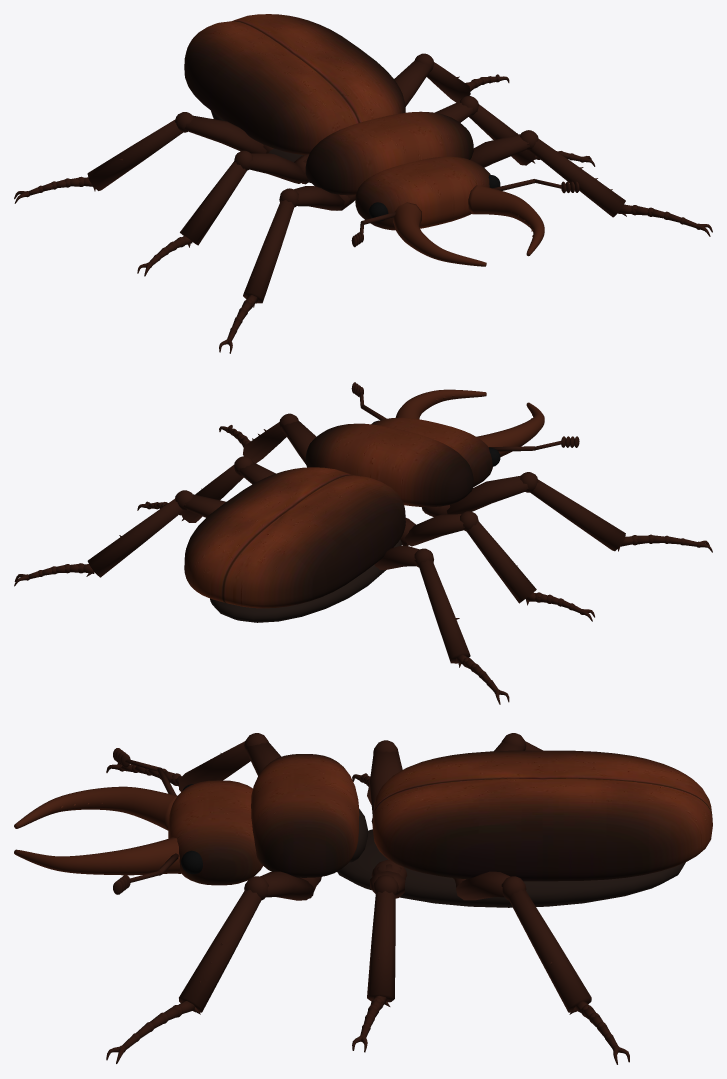
The model's file is bug_nokogiri.glb.
The picture shows the model from 3 angles, top to bottom: view 1: azimuth 30°, elevation 25°; view 2: azimuth 150°, elevation 25°; view 3: azimuth 270°, elevation 25°; orthographic projection. The views are drawn at different scales.
Visible parts, largest first — view 1: shell, pronotum, head_shell, leg_2_R_mesh, leg_0_L_mesh, leg_1_R_mesh, leg_0_R_mesh, leg_2_L_mesh, jaw_L_mesh, leg_1_L_mesh, jaw_R_mesh; view 2: shell, pronotum, leg_0_R_mesh, leg_1_R_mesh, leg_2_L_mesh, leg_2_R_mesh, under, head_shell, leg_0_L_mesh, leg_1_L_mesh, jaw_R_mesh, jaw_L_mesh (+1 smaller); view 3: shell, pronotum, head_shell, under, leg_0_L_mesh, leg_2_L_mesh, leg_1_L_mesh, jaw_L_mesh, jaw_R_mesh, leg_0_R_mesh, leg_1_R_mesh, ant_R_mesh (+1 smaller).
Boxes of the visible parts, box(x1,y1,x2,y2) form: shell: box(184, 14, 405, 154); pronotum: box(305, 111, 473, 195); head_shell: box(355, 156, 490, 230); leg_2_R_mesh: box(14, 112, 273, 203); leg_0_L_mesh: box(470, 130, 712, 236); leg_1_R_mesh: box(137, 150, 309, 276); leg_0_R_mesh: box(219, 186, 355, 353); leg_2_L_mesh: box(394, 53, 509, 106); jaw_L_mesh: box(468, 185, 544, 256); leg_1_L_mesh: box(435, 96, 595, 166); jaw_R_mesh: box(393, 202, 486, 266); shell: box(184, 467, 405, 608); pronotum: box(305, 423, 473, 506); leg_0_R_mesh: box(421, 472, 712, 552); leg_1_R_mesh: box(400, 511, 594, 621); leg_2_L_mesh: box(14, 490, 226, 586); leg_2_R_mesh: box(374, 546, 509, 704); under: box(210, 540, 401, 622); head_shell: box(372, 417, 492, 487); leg_0_L_mesh: box(219, 413, 316, 463); leg_1_L_mesh: box(137, 456, 275, 522); jaw_R_mesh: box(476, 402, 544, 457); jaw_L_mesh: box(395, 389, 486, 419); shell: box(372, 750, 712, 881); pronotum: box(251, 754, 359, 877); head_shell: box(168, 780, 262, 885); under: box(337, 808, 685, 907); leg_0_L_mesh: box(106, 871, 321, 1063); leg_2_L_mesh: box(453, 871, 629, 1064); leg_1_L_mesh: box(352, 859, 407, 1052); jaw_L_mesh: box(14, 837, 181, 875); jaw_R_mesh: box(14, 786, 177, 830); leg_0_R_mesh: box(106, 733, 281, 791); leg_1_R_mesh: box(352, 740, 402, 824); ant_R_mesh: box(113, 748, 176, 795).
Size of the model in its own units: 1.65 by 0.3678 by 1.64.
6 materials, 2 textured.
